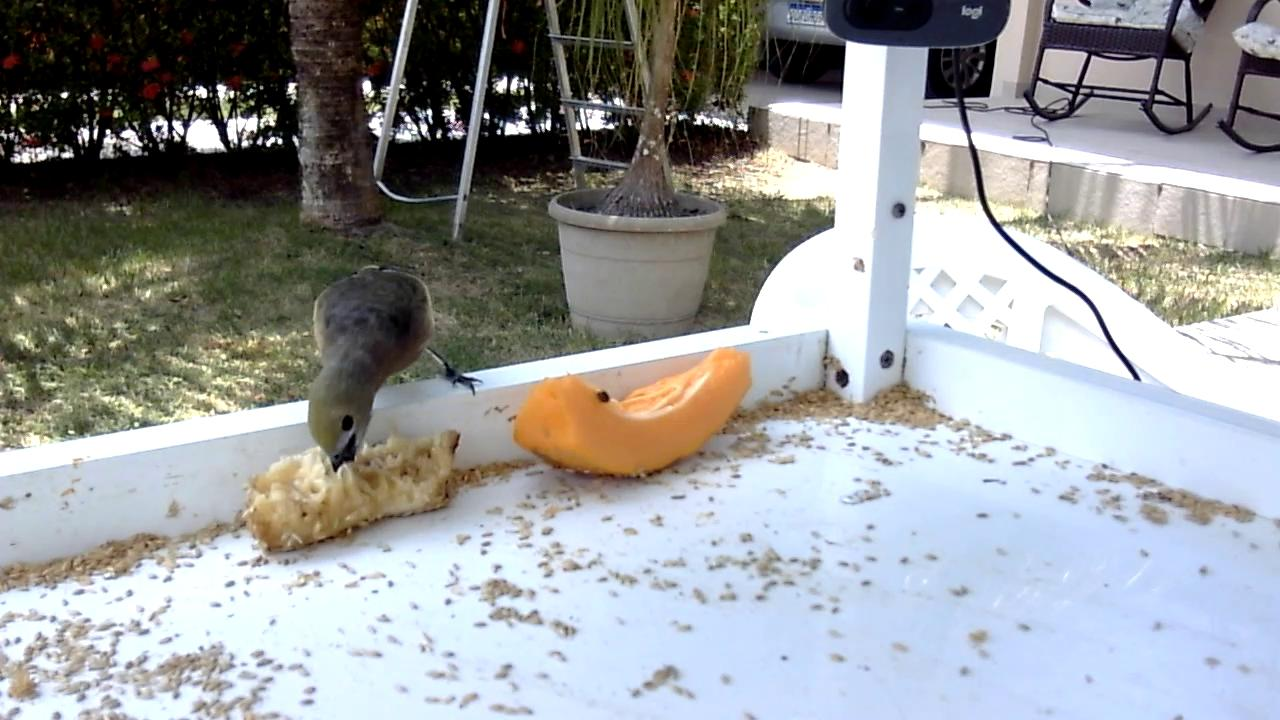sanhaco_do_coqueiro: (307, 263, 487, 475)
